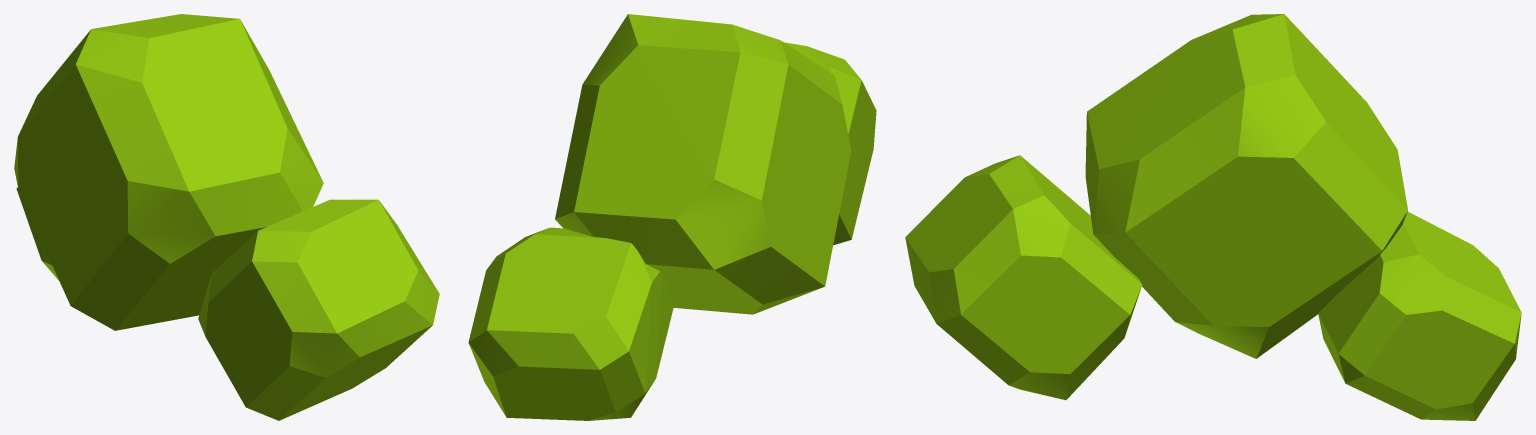
The model's file is tree_big_boxy_bevel_3.fbx.
3 renders of one model, left to right at view 1: azimuth 30°, elevation 25°; view 2: azimuth 150°, elevation 25°; view 3: azimuth 270°, elevation 25°, orthographic. The views are drawn at different scales.
Parts seen in each view (by area): view 1: tree_big_boxy_bevel_3; view 2: tree_big_boxy_bevel_3; view 3: tree_big_boxy_bevel_3.
Boxes of the visible parts, x1,y1,x2,y2 form: tree_big_boxy_bevel_3: [14, 14, 439, 420]; tree_big_boxy_bevel_3: [468, 14, 876, 420]; tree_big_boxy_bevel_3: [905, 14, 1521, 420].
Size of the model in its own units: 88.63 by 115 by 188.
